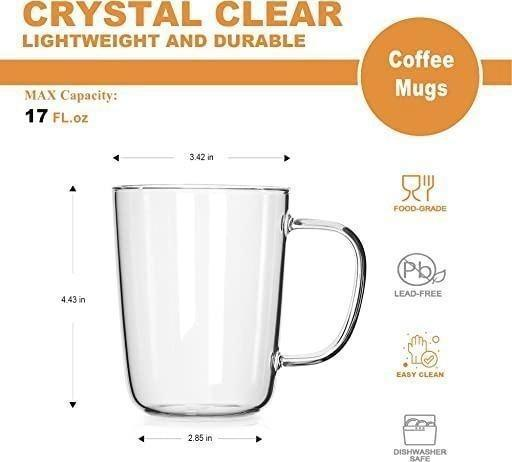glass-mug: (108, 177, 378, 422)
